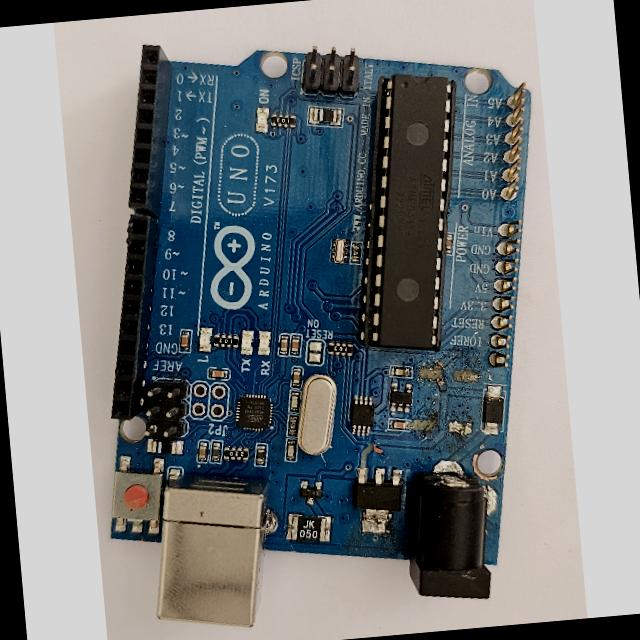missing_analog_pins: (484, 74, 531, 379)
missing_capacitors: (410, 359, 482, 444)
